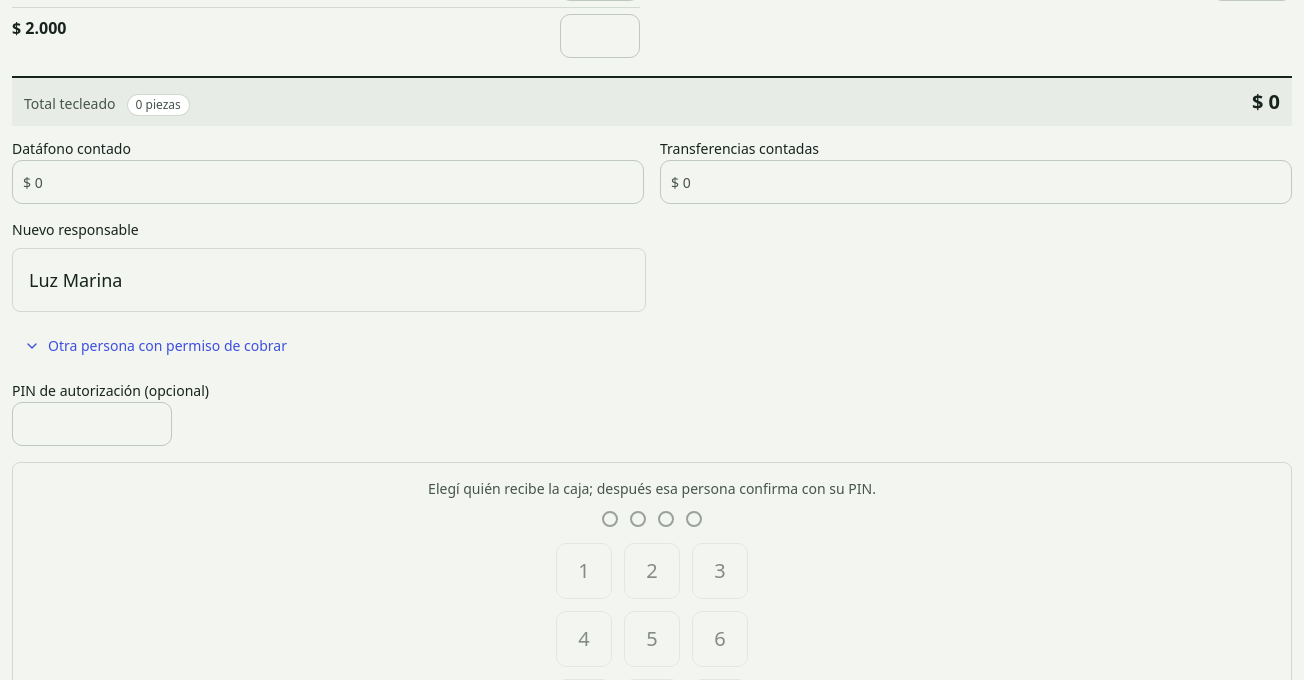
Scenario: HandoverPanel — quien recibe confirma con su PIN › lista primero a los del turno que pueden recibir; los demás detrás de «Otra persona…»
(page scrolled)
Expected: the radio button labelled "Luz Marina" is shown, left=12, top=248, right=646, bottom=312
Expected: the radio button labelled "Rosa" is not shown
Click the button "Otra persona con permiso de cobrar" at coordinates (156, 346), box left=12, top=324, right=299, bottom=368
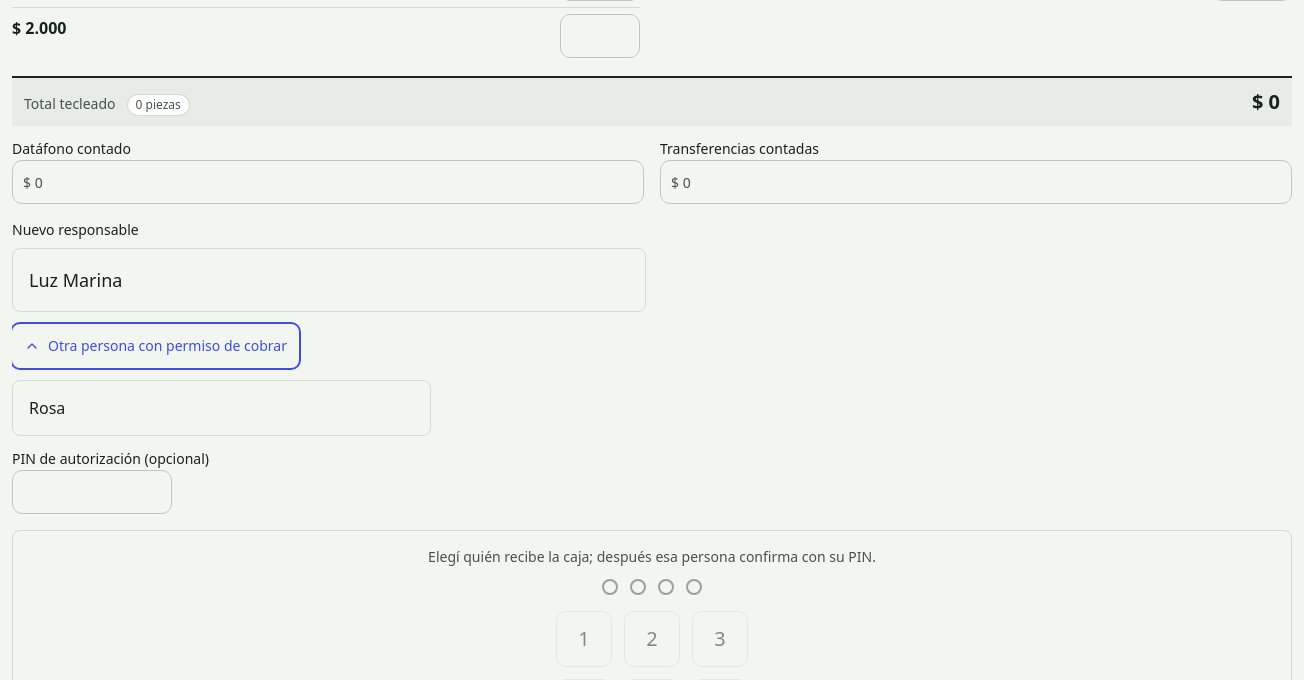
Now the radio button labelled "Rosa" is shown, box left=12, top=380, right=431, bottom=436
